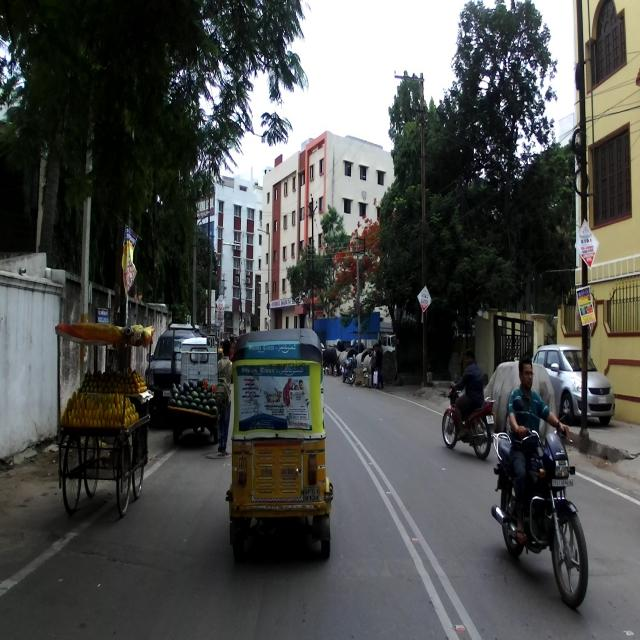Car: (483, 360, 556, 448)
Car_Maruti-Suzuki: (532, 344, 616, 428)
autorickshaw: (224, 327, 334, 562), (169, 337, 221, 445)
motorcycle_Hero: (490, 398, 588, 609), (441, 379, 496, 461)
